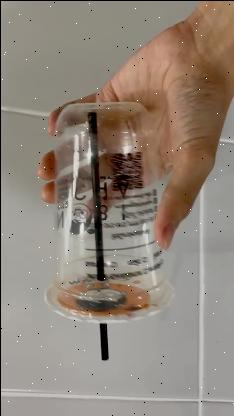Others: (43, 100, 176, 322)
